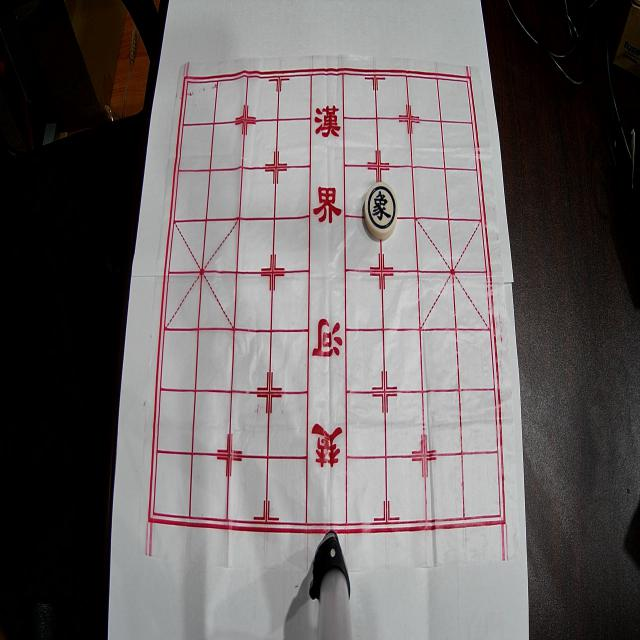black-elephant: (364, 183, 398, 239)
